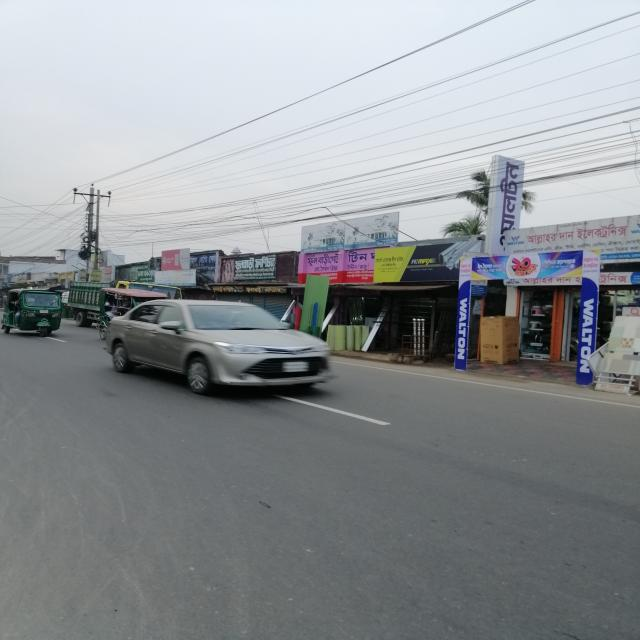CNG: (3, 284, 67, 343)
Car: (100, 296, 356, 399)
